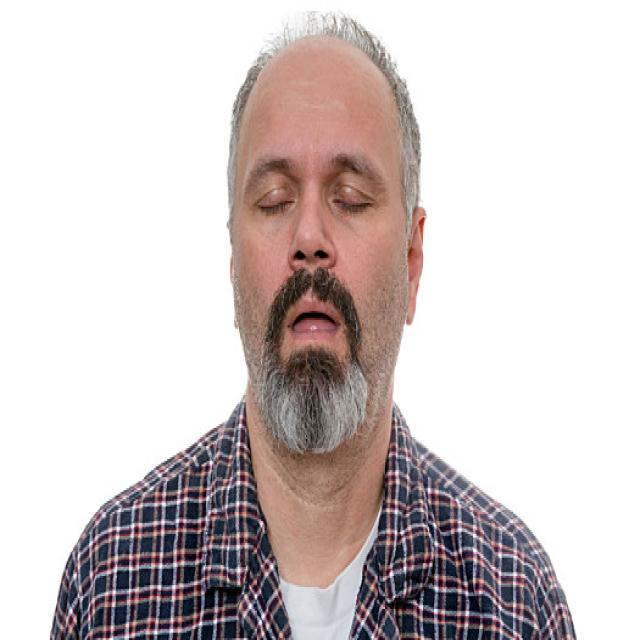Closed: (249, 186, 304, 221), (329, 177, 374, 216)
